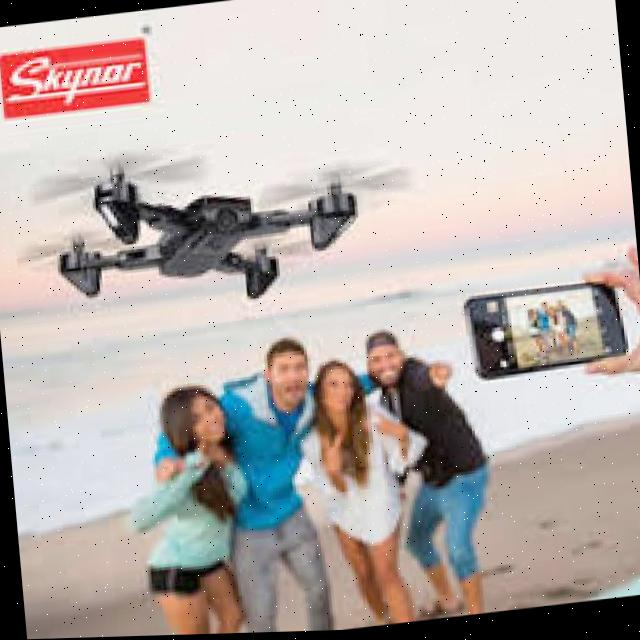drone: (9, 112, 416, 359)
